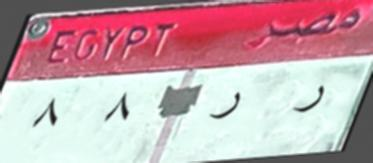8: (21, 86, 72, 135), (93, 89, 138, 130)
raa: (197, 89, 252, 132), (283, 80, 332, 126)
